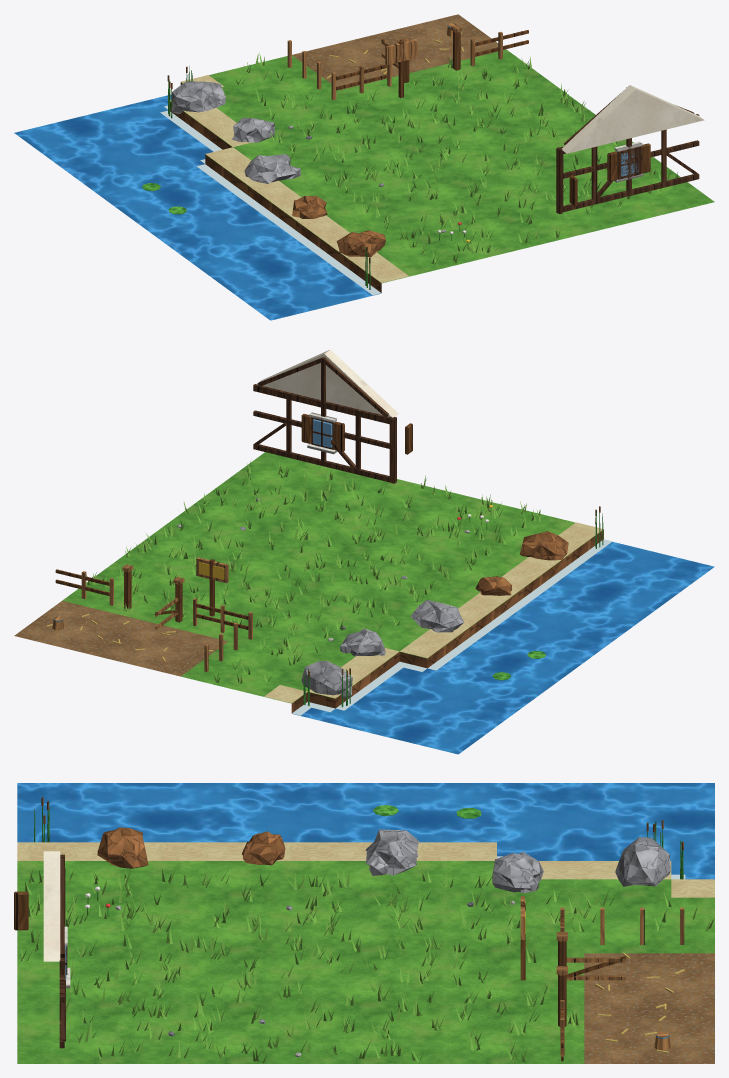
The model's file is chunk_4_4.glb.
The picture shows the model from 3 angles, top to bottom: view 1: azimuth 30°, elevation 25°; view 2: azimuth 150°, elevation 25°; view 3: azimuth 270°, elevation 25°; orthographic projection. The views are drawn at different scales.
Visible parts, largest first — view 1: chunk_4_4; view 2: chunk_4_4; view 3: chunk_4_4.
Part boxes in pixels (left/top/right/bottom): chunk_4_4: left=14, top=14, right=714, bottom=320; chunk_4_4: left=14, top=349, right=714, bottom=754; chunk_4_4: left=14, top=783, right=714, bottom=1063.
Size of the model in its own units: 16.5 by 4.69 by 16.08.
Materials: 25 (17 with a texture image).
